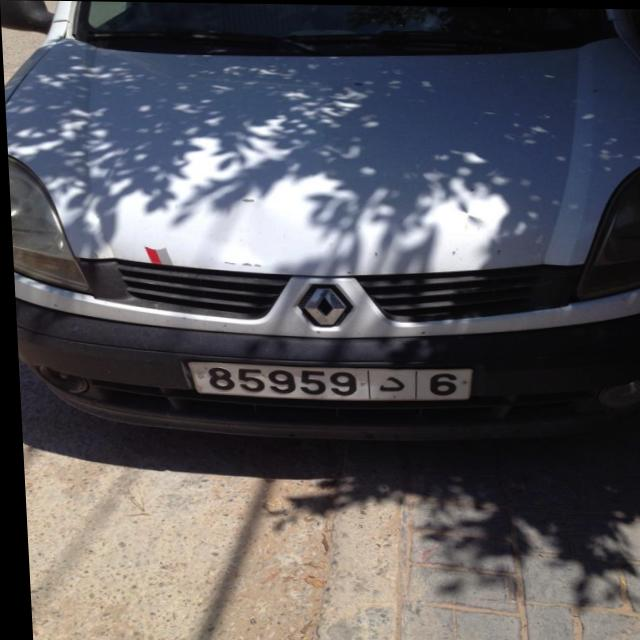License-Plate: (185, 363, 468, 400)
